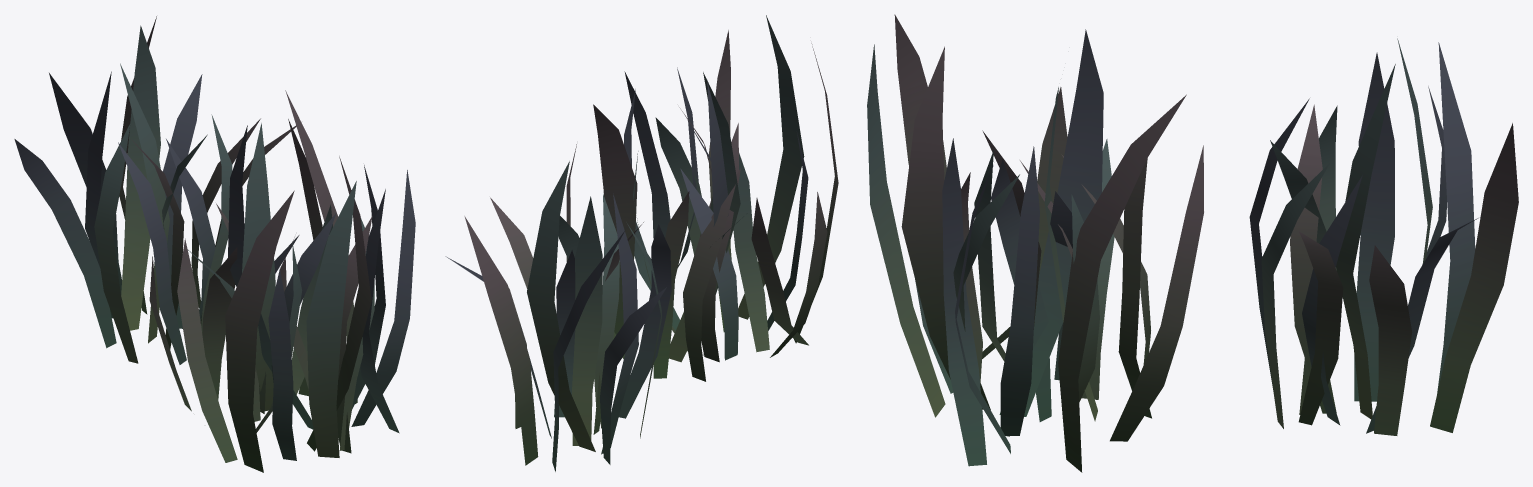
File: Grass.fbx
3 renders of one model, left to right at view 1: azimuth 30°, elevation 25°; view 2: azimuth 150°, elevation 25°; view 3: azimuth 270°, elevation 25°, orthographic. The views are drawn at different scales.
Parts seen in each view (by area): view 1: Grass1, Grass2; view 2: Grass1, Grass2; view 3: Grass1, Grass2.
Part boxes in pixels (left/top/right/bottom): Grass1: left=149, top=90, right=415, bottom=472; Grass2: left=14, top=16, right=296, bottom=364; Grass1: left=566, top=15, right=838, bottom=381; Grass2: left=445, top=161, right=671, bottom=471; Grass1: left=867, top=14, right=1203, bottom=472; Grass2: left=1249, top=38, right=1518, bottom=435.
Bounding box in the file's own units: 35.57 × 42.51 × 64.84.
